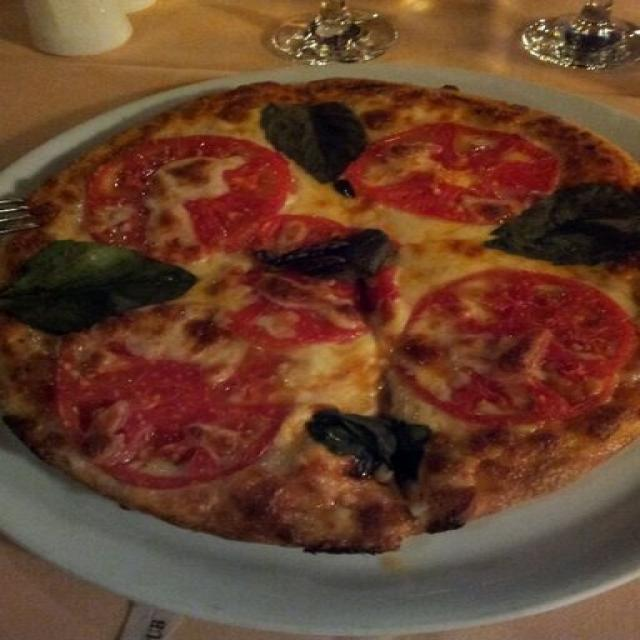Basil: (0, 242, 197, 325), (498, 188, 640, 272), (258, 103, 359, 185), (316, 411, 428, 484)
Pizza: (3, 79, 638, 551)
Tomato: (50, 300, 290, 485), (379, 264, 640, 429), (333, 113, 564, 232), (90, 136, 283, 262), (205, 228, 412, 334)
